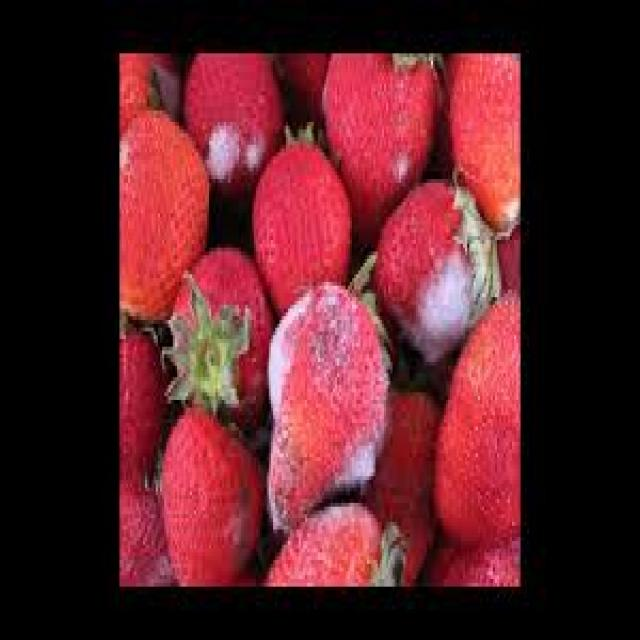organic waste: (264, 244, 390, 537), (429, 282, 518, 552), (160, 240, 273, 438), (320, 45, 442, 228), (373, 172, 493, 358), (117, 103, 209, 320), (158, 400, 262, 587), (249, 118, 350, 309), (358, 366, 439, 586), (181, 50, 282, 190), (258, 495, 408, 583), (446, 49, 516, 232), (118, 312, 164, 484), (117, 468, 171, 586), (422, 529, 518, 583), (273, 49, 324, 130), (115, 50, 162, 134), (493, 213, 518, 290)
